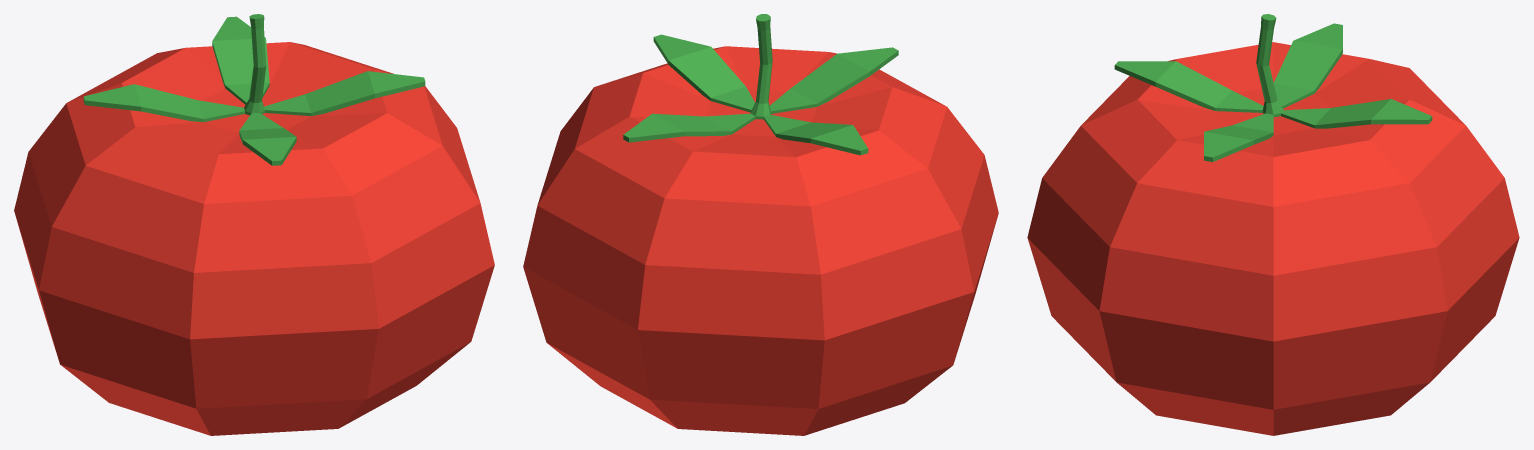
Rendered from tomato.glb.
3 renders of one model, left to right at view 1: azimuth 30°, elevation 25°; view 2: azimuth 150°, elevation 25°; view 3: azimuth 270°, elevation 25°, orthographic.
Visible parts, largest first — view 1: Tomato_Circle.024; view 2: Tomato_Circle.024; view 3: Tomato_Circle.024.
Boxes of the visible parts, x1=… form: Tomato_Circle.024: x1=14, y1=14, x2=494, y2=435; Tomato_Circle.024: x1=523, y1=14, x2=998, y2=435; Tomato_Circle.024: x1=1027, y1=14, x2=1519, y2=435.
Size of the model in its own units: 0.3257 by 0.2587 by 0.3257.
